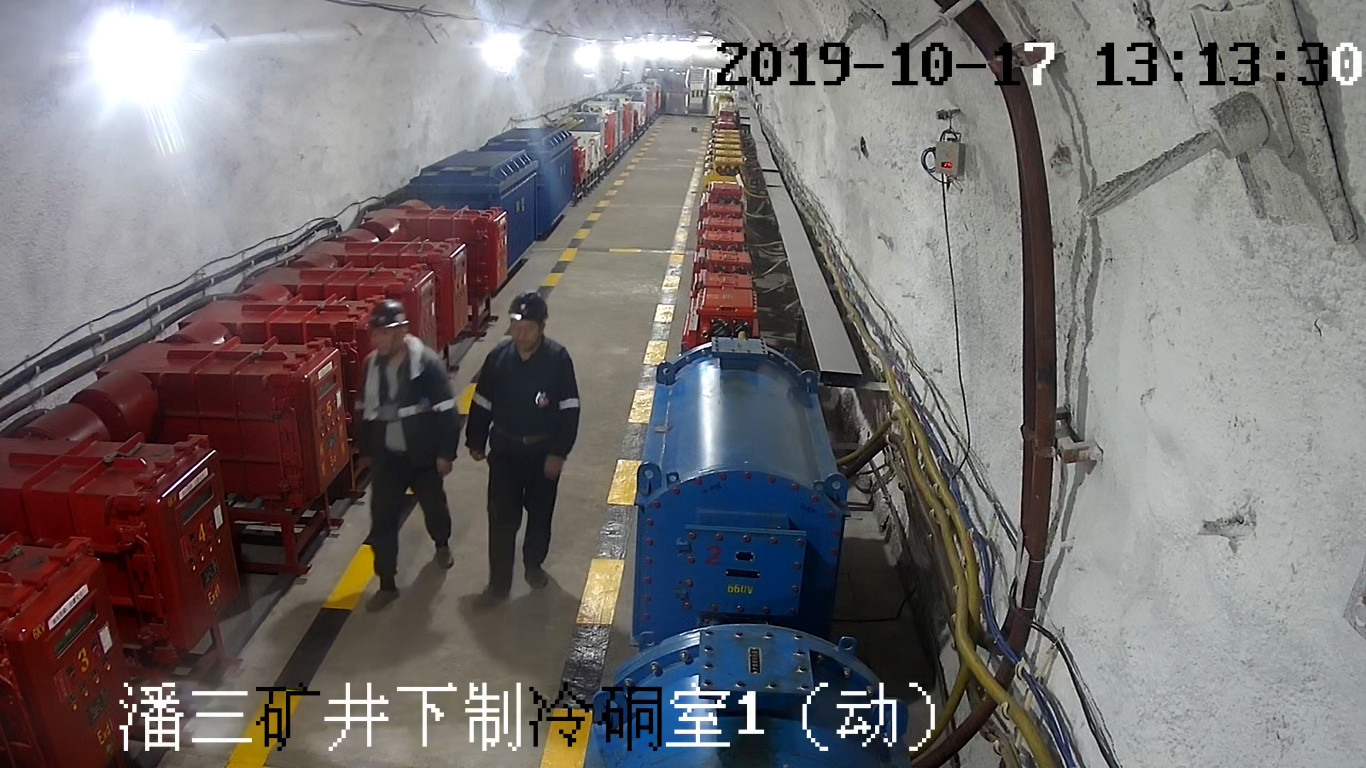helmet: (508, 290, 548, 322)
